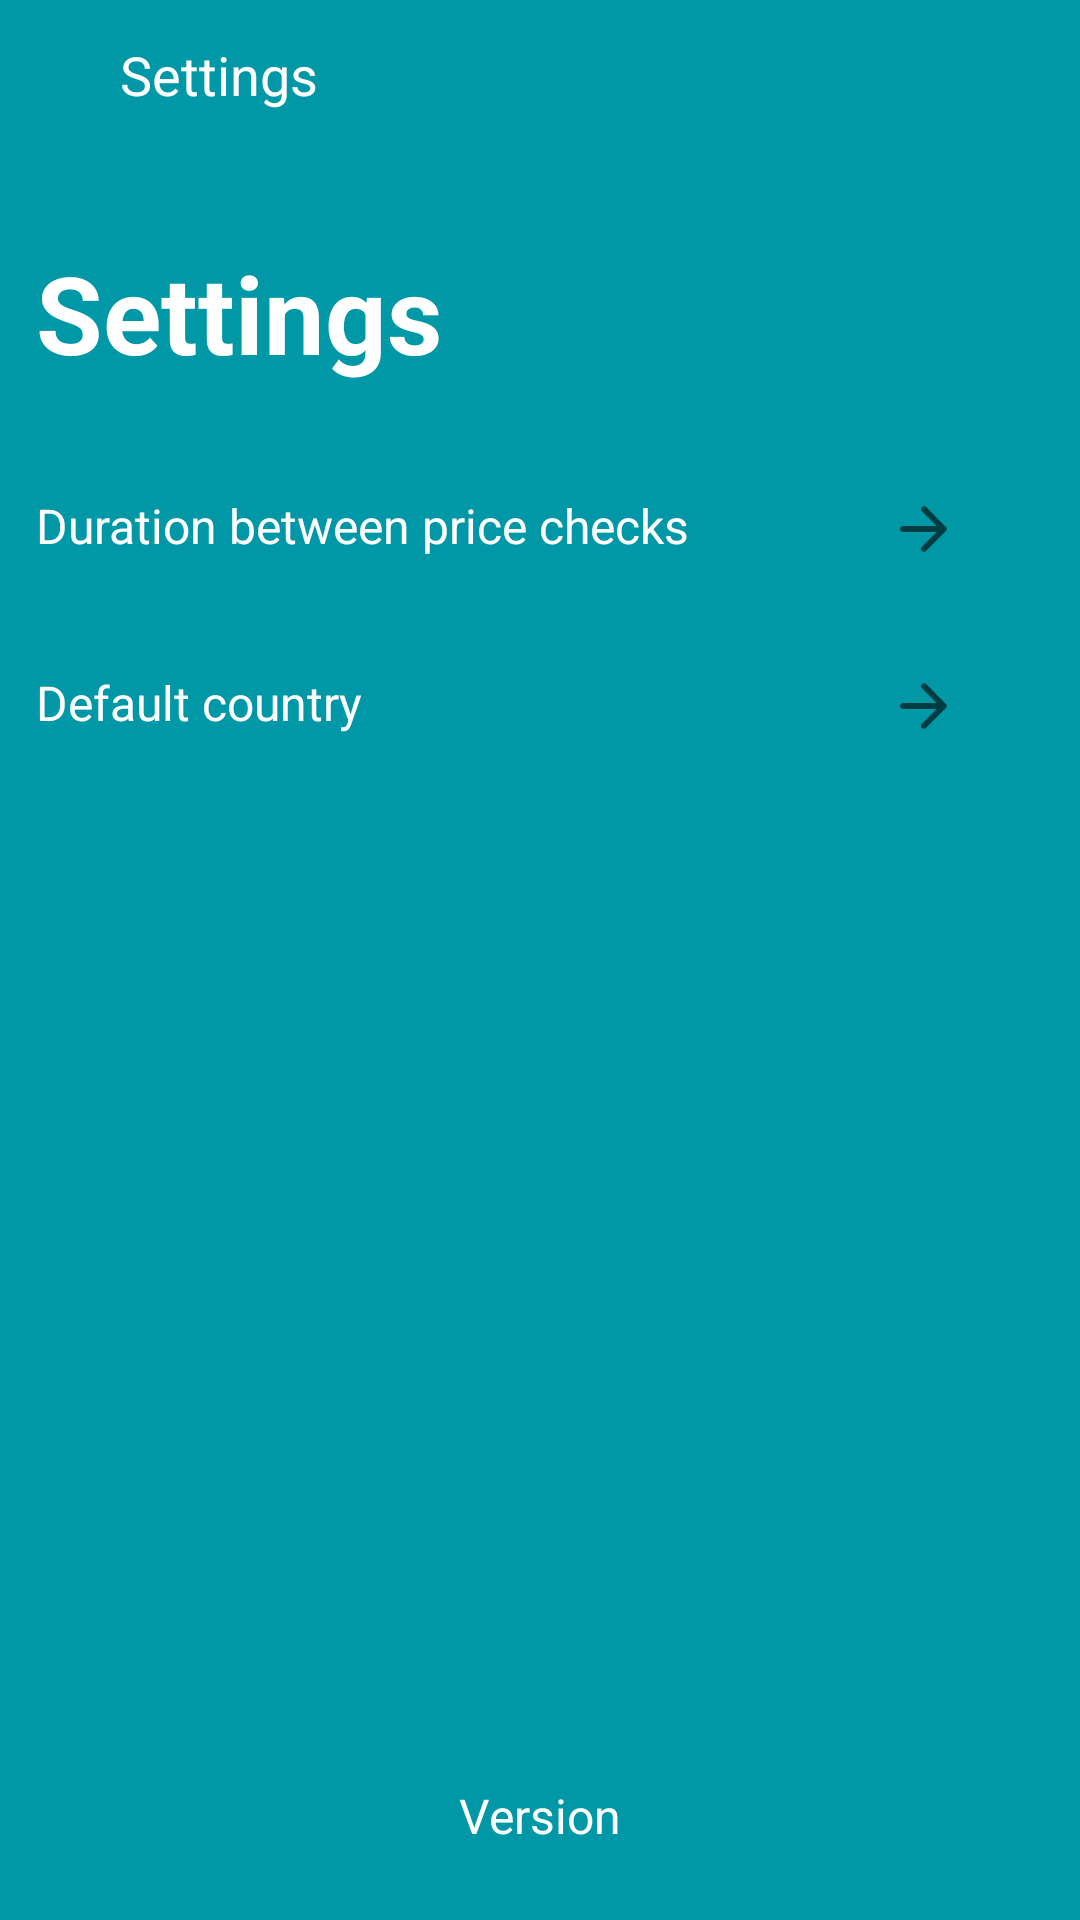

Locate icon controls on the screen. Image size 1080 x 1920, boxes as (x1, y1, x2, y2).
arrow forward: (900, 506, 947, 552), (900, 683, 947, 729)
